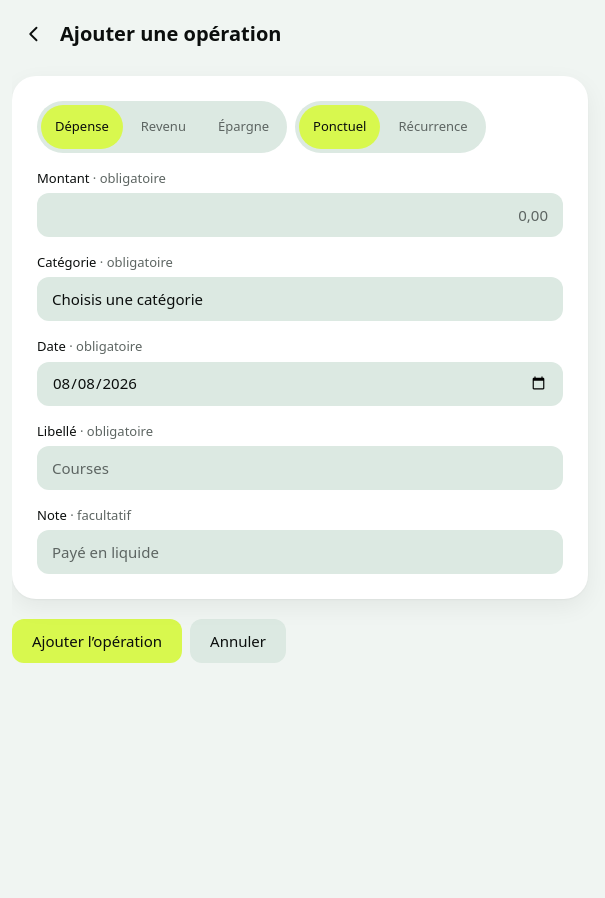
les mots suivent ce qu’on enregistre › parle de la récurrence en récurrence, de l’entrée en ponctuel
Click the button "Ajouter l’opération" at [97, 641], box [12,619,182,663]
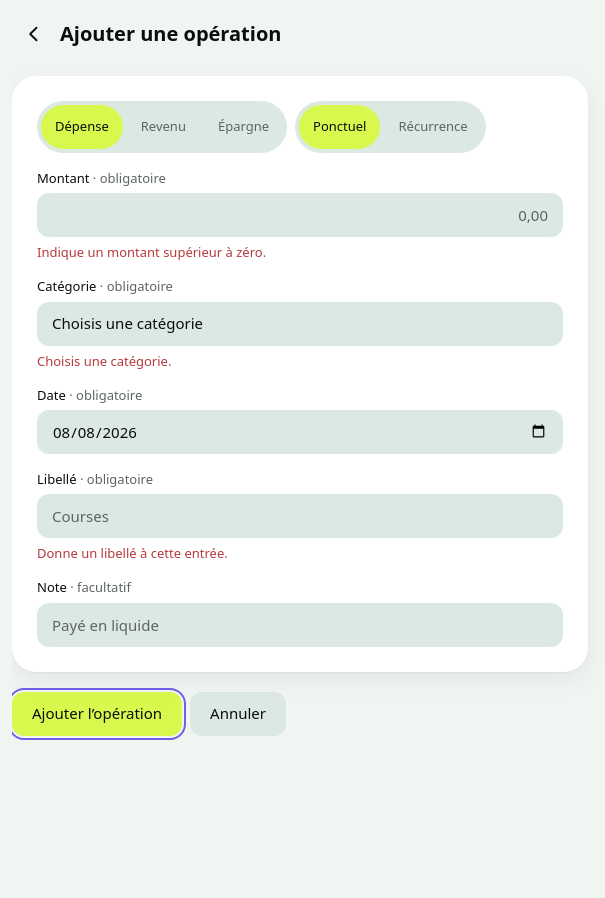
expect the text "Donne un libellé à cette entrée." is shown: met, box [37,544,228,562]
Click the radio button labelled "Récurrence" at [433, 127], box [384,105,482,149]
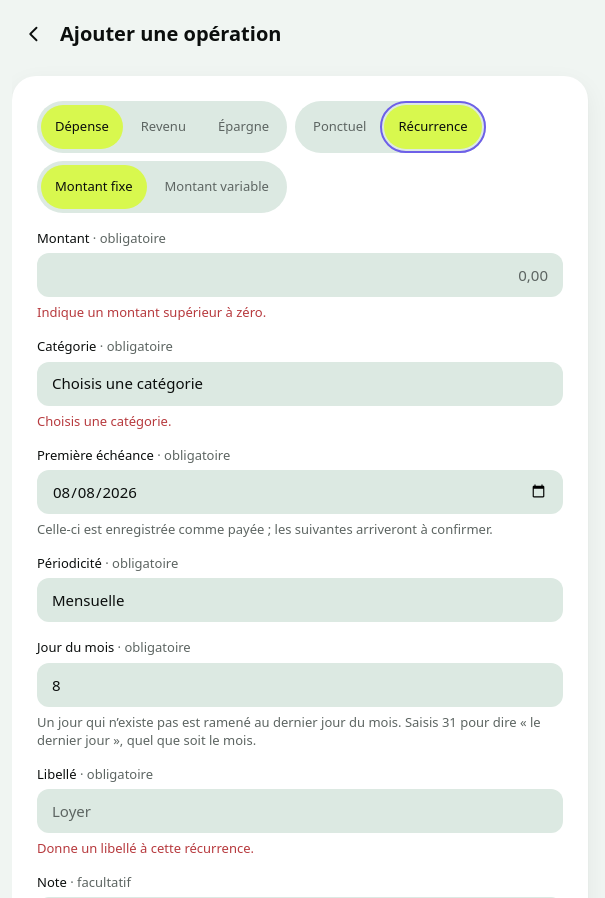
expect the text "Donne un libellé à cette récurrence." is shown: met, box [37,839,254,857]
expect the text "Donne un libellé à cette entrée." is gone: met
